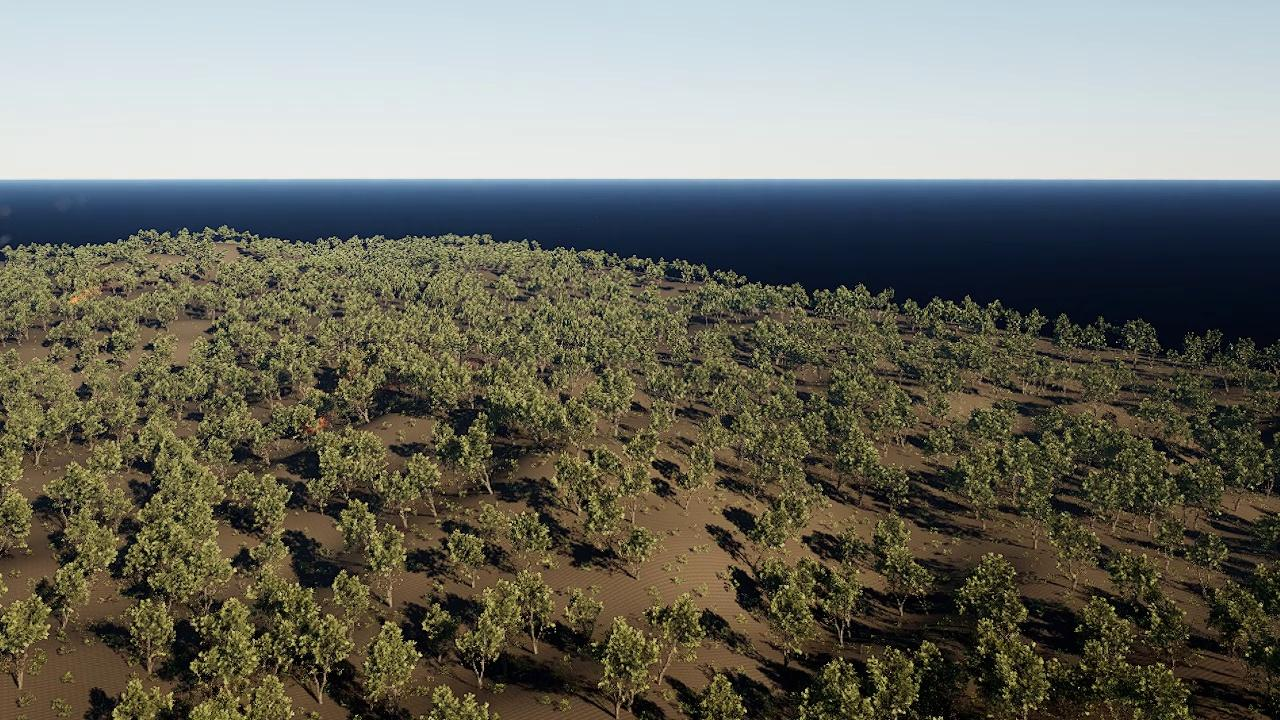fire: (69, 296, 80, 306)
smoke: (82, 280, 119, 301)
